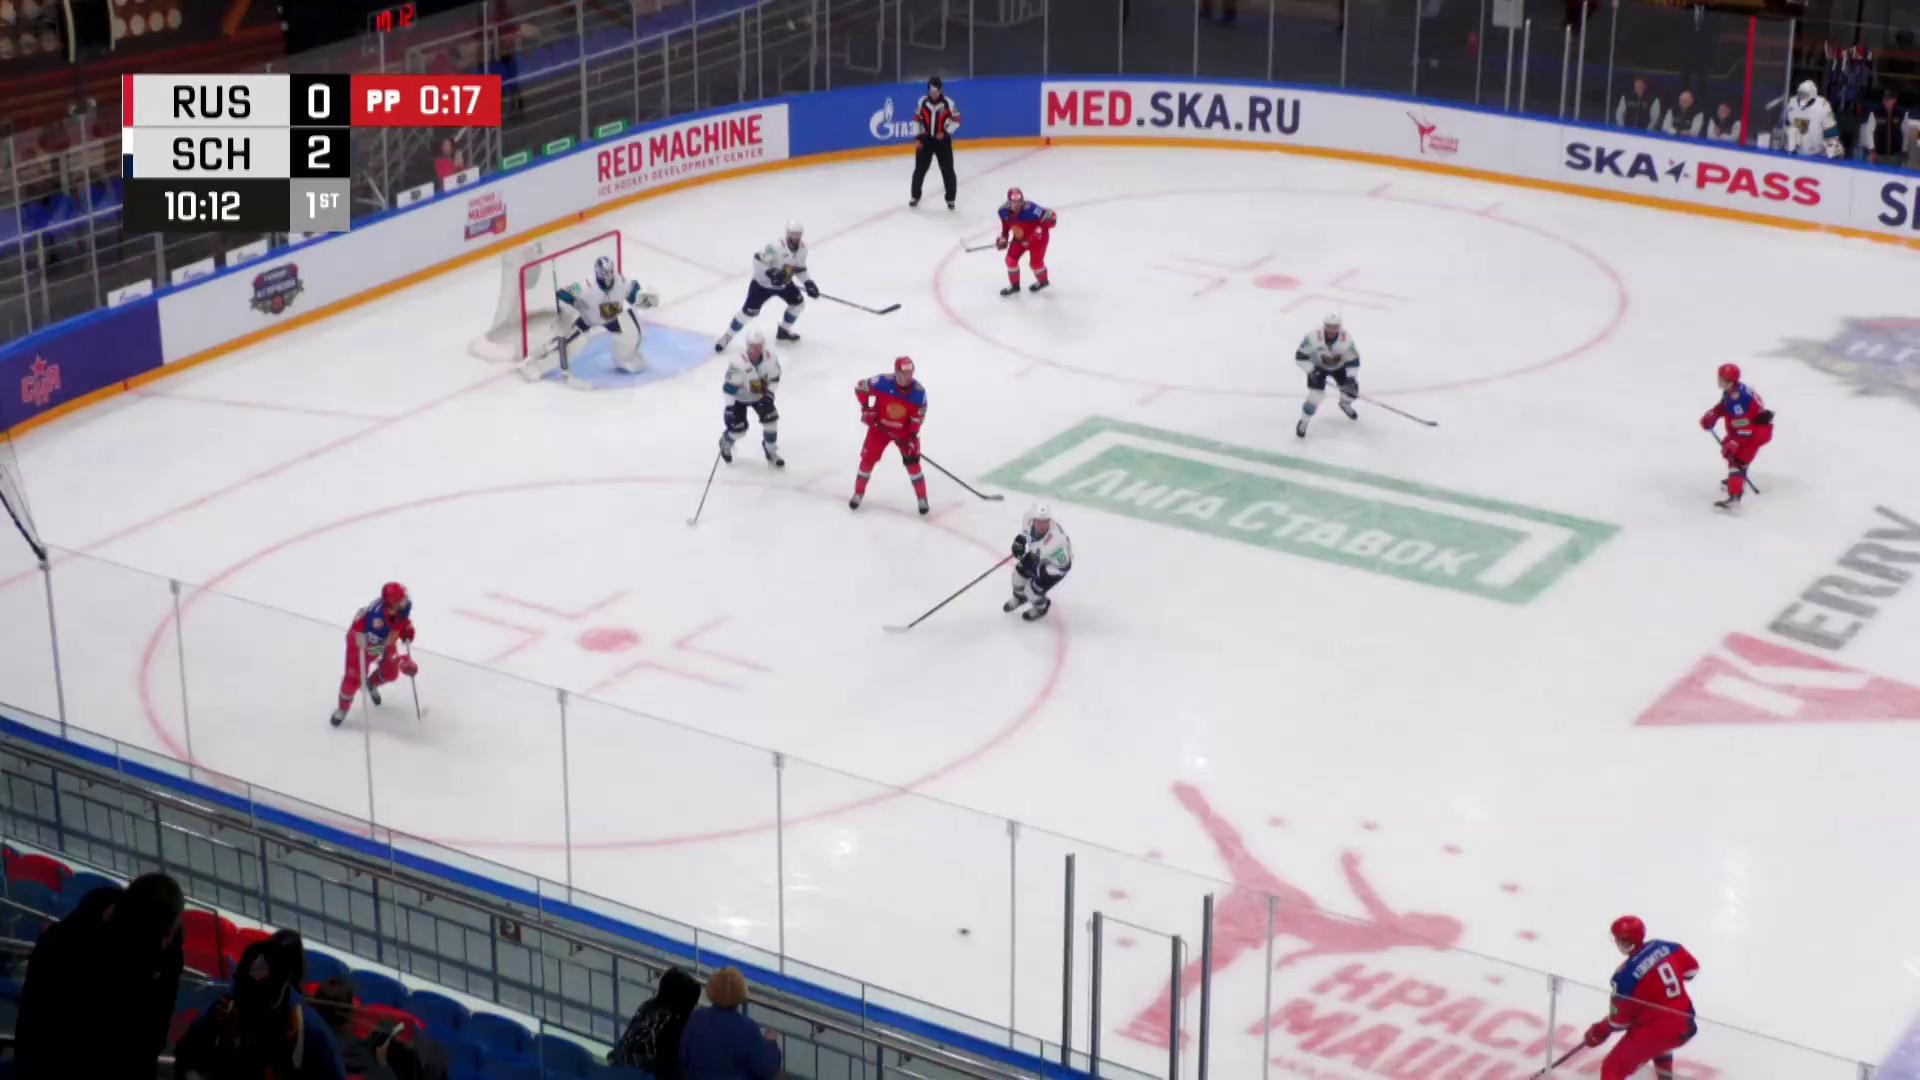ball: (959, 928, 971, 936)
